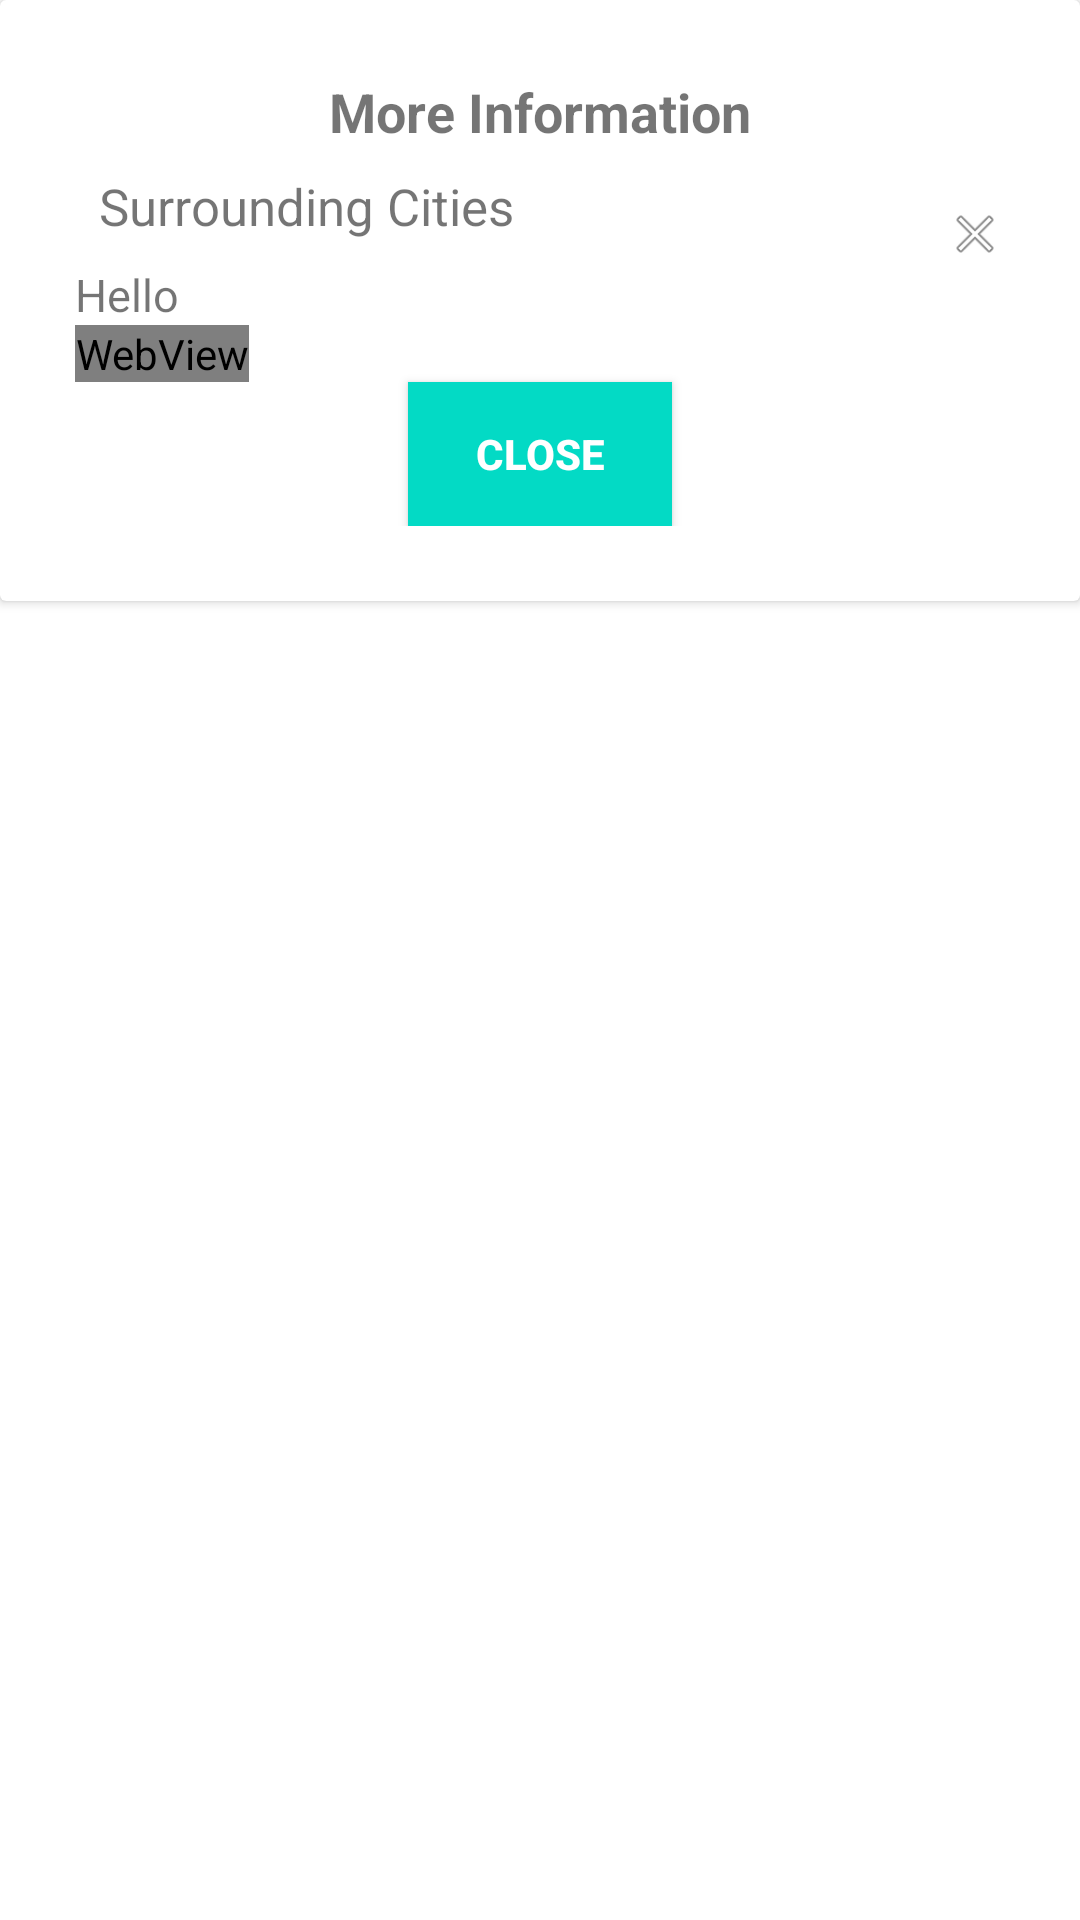

Where icons sit on this 1080px×1920px app screen, as (left=x1, top=y1, right=x2, bottom=y2):
close clear cancel: (left=956, top=215, right=994, bottom=253)
